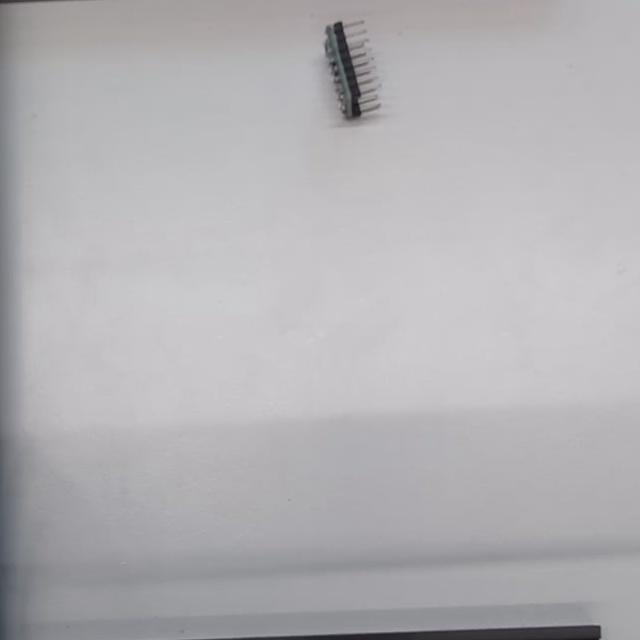Chip: (319, 18, 378, 128)
